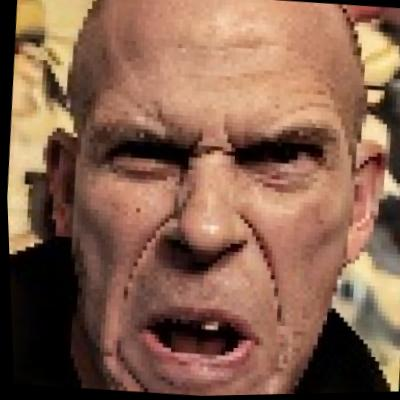angry: (52, 9, 354, 399)
